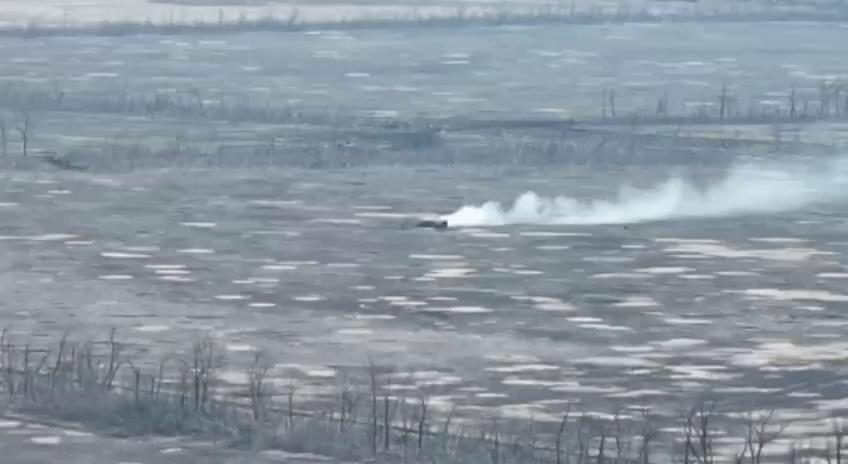vehicle: (416, 219, 448, 230)
